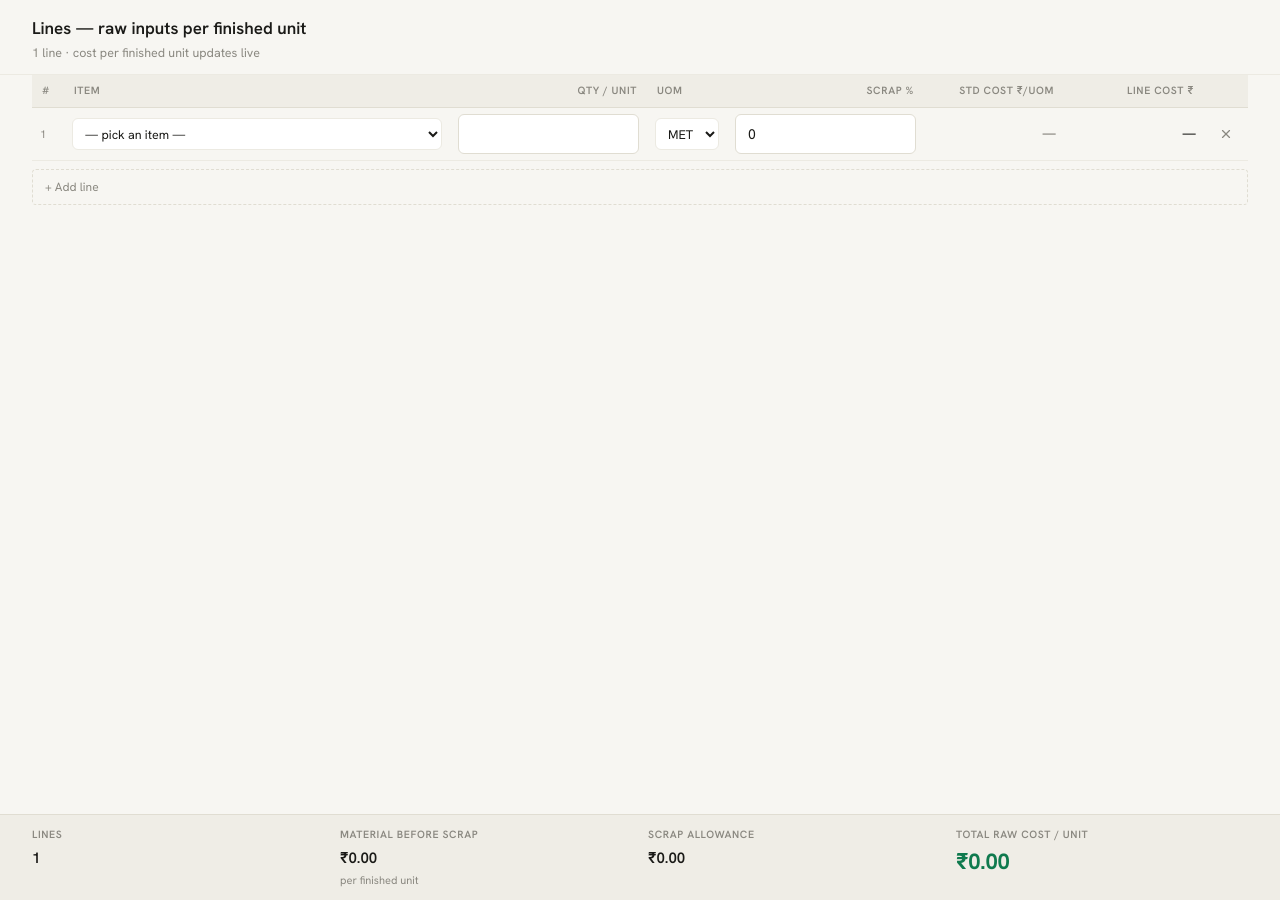
it: BomLinesEditor › adds a new line when the operator clicks "Add line"
expect the number of rows with test id "bom-line-row" is 1: met, box 32,108 -> 1248,160
What coordinates should you click on to do the following:
click the button "+ Add line"
I would click on:
 (72, 187)
Its box is 32,169 -> 1248,205.
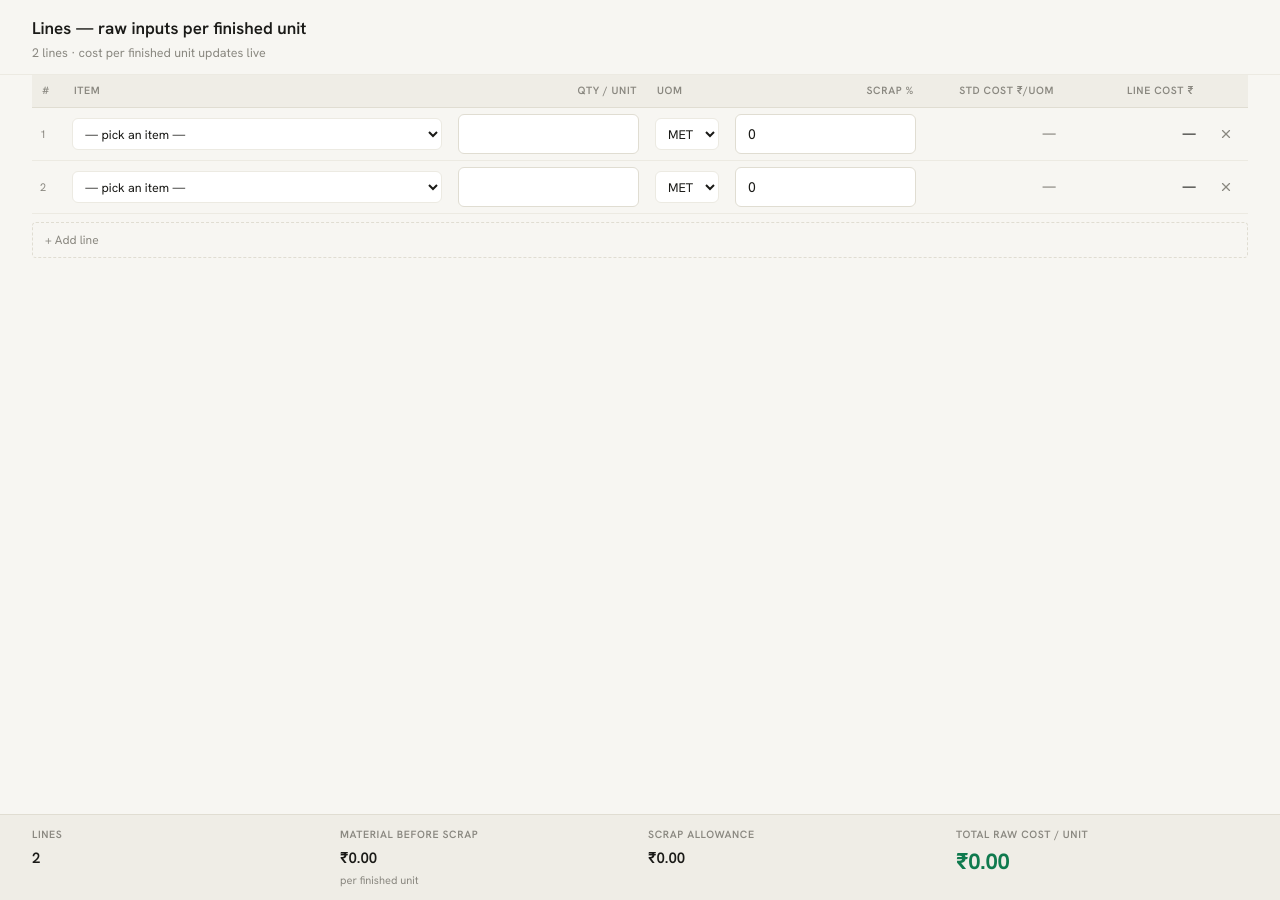
expect the number of rows with test id "bom-line-row" is 2: met, box 32,108 -> 1248,160; 32,160 -> 1248,214
